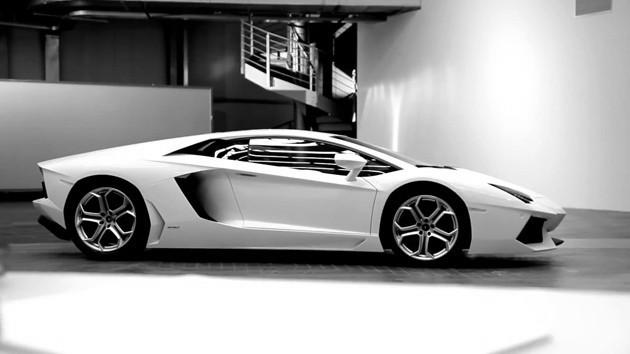car: (33, 127, 569, 268)
